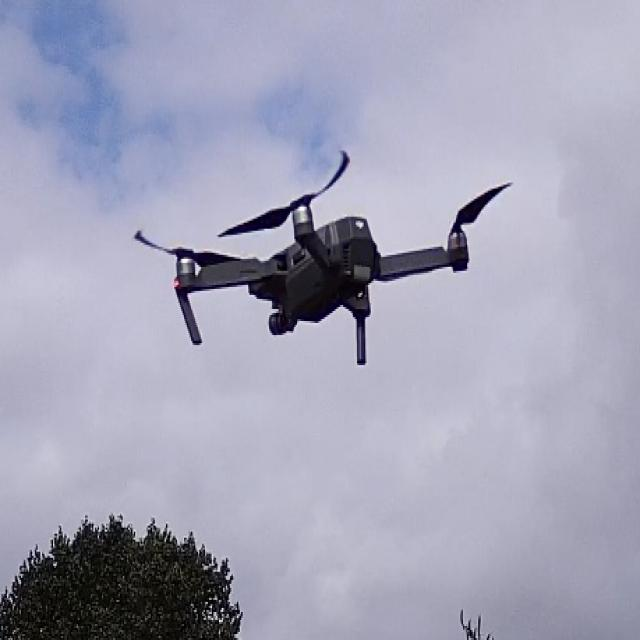drone: (129, 102, 518, 388)
